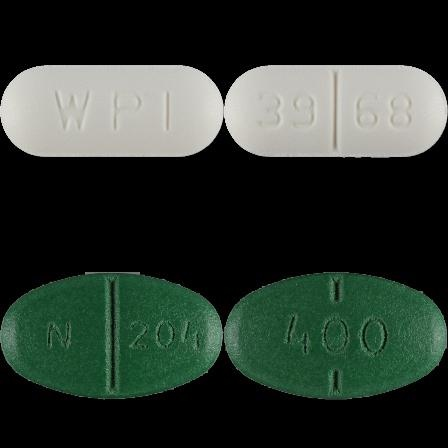33261-021: (0, 0, 224, 224)
